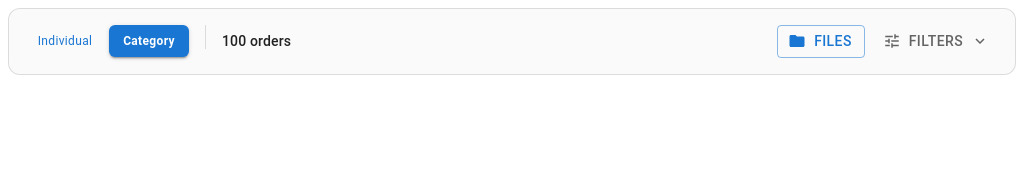
Test: ModernFilters › expands and collapses filter details
The image size is (1024, 175).
Click the button "Filters" at (936, 41), box [873,25,999,58]
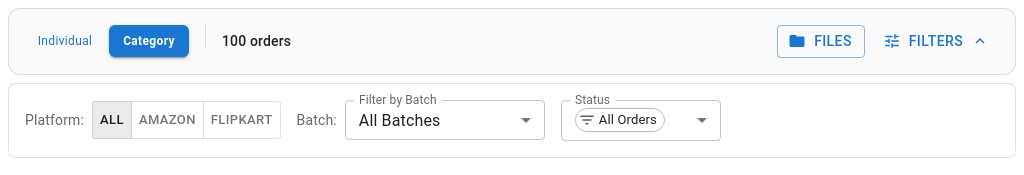
Expected: the element named "platform filter" is shown, [92,101,281,139]
Expected: the dropdown named "Filter by Batch" is shown, [359,110,440,130]
